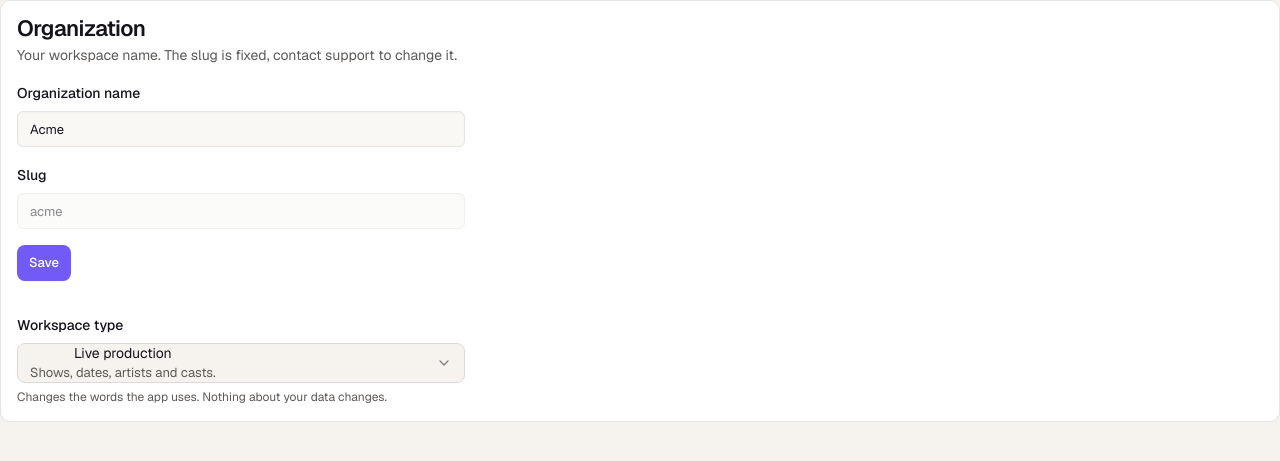
Test case: OrganizationTab › rejects a blank name
Clear the field labelled "Organization name": (241, 129) left=17, top=111, right=465, bottom=147
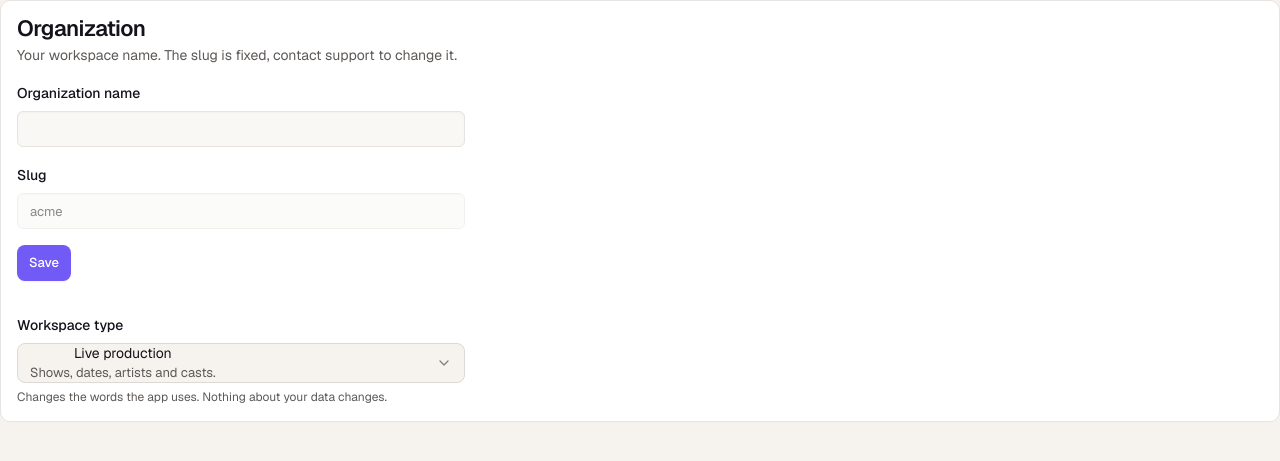
Click the button "Save": (44, 263) left=17, top=245, right=71, bottom=281
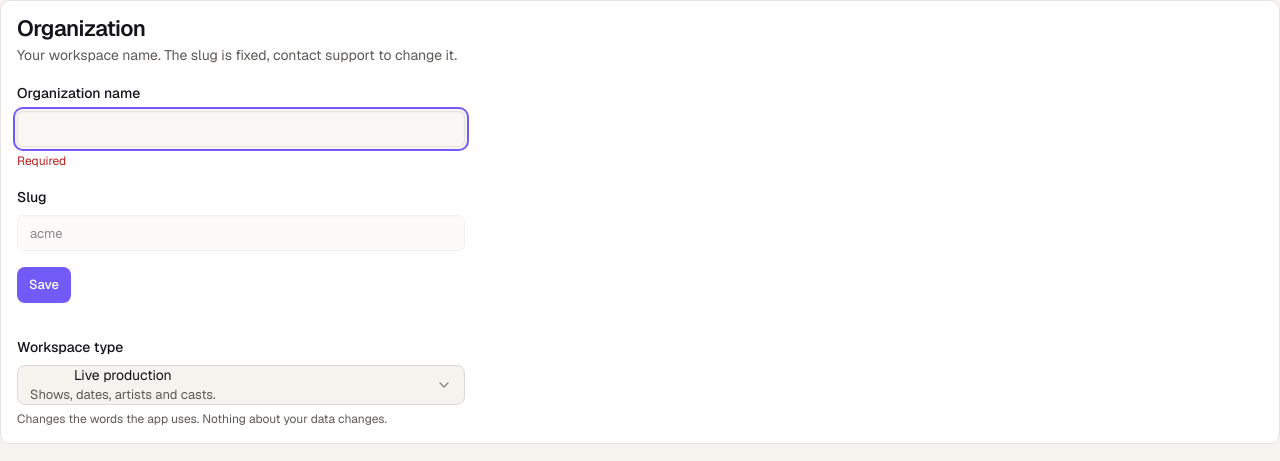
Now the text "Required" is shown, box left=17, top=153, right=66, bottom=169
